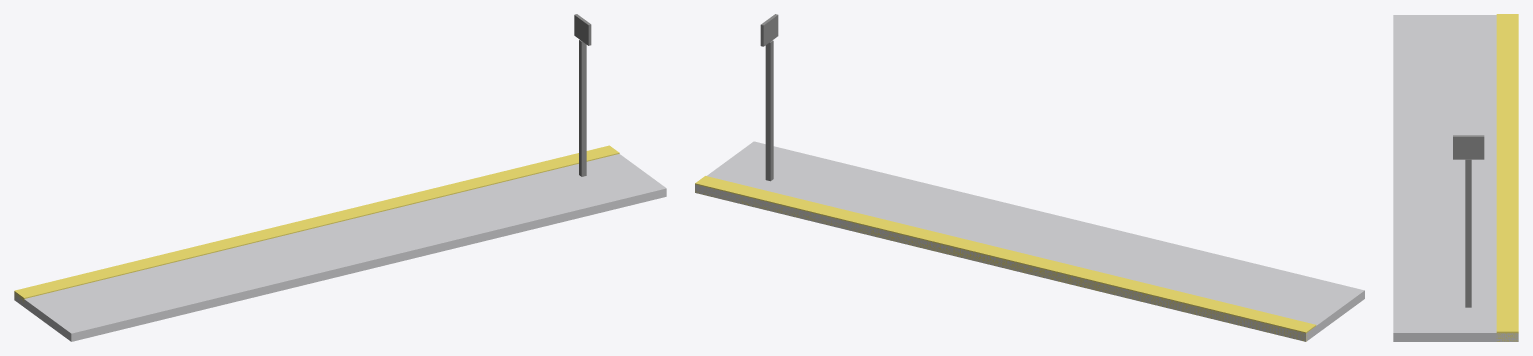
Rendered from bus_stop_pole.glb.
The picture shows the model from 3 angles, left to right: view 1: azimuth 30°, elevation 25°; view 2: azimuth 150°, elevation 25°; view 3: azimuth 270°, elevation 25°; orthographic projection. The views are drawn at different scales.
Parts seen in each view (by area): view 1: platform_body@0, boarding_edge@0, post@0; view 2: platform_body@0, boarding_edge@0, post@0; view 3: platform_body@0, boarding_edge@0, post@0.
Boxes of the visible parts, box(x1,y1,x2,y2) form: platform_body@0: box(14, 154, 666, 341); boarding_edge@0: box(14, 145, 619, 302); post@0: box(574, 14, 591, 176); platform_body@0: box(695, 141, 1364, 341); boarding_edge@0: box(695, 176, 1316, 341); post@0: box(760, 14, 778, 181); platform_body@0: box(1393, 15, 1518, 341); boarding_edge@0: box(1496, 14, 1518, 341); post@0: box(1453, 135, 1484, 307).
Size of the model in its own units: 12 by 3.16 by 2.
